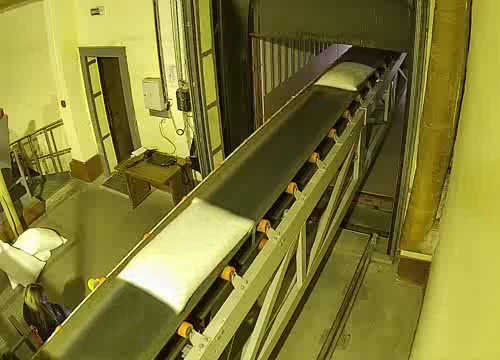bag: (109, 196, 259, 315), (310, 58, 380, 93)
